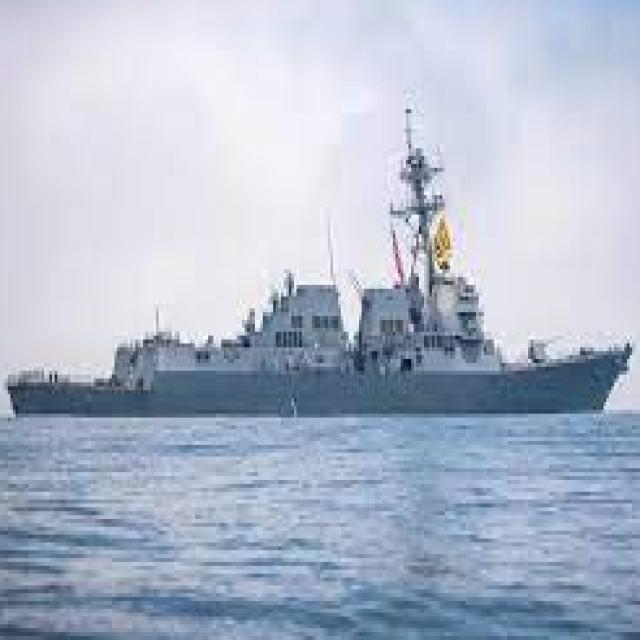navalvessels: (6, 100, 631, 418)
